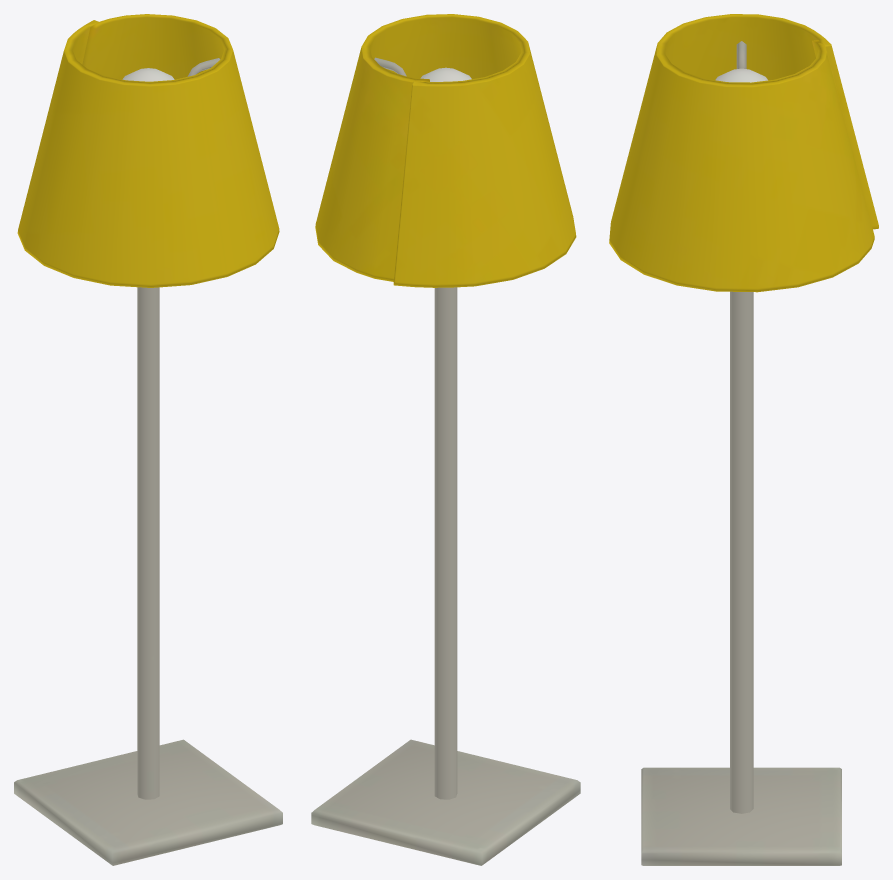
The picture shows the model from 3 angles, left to right: view 1: azimuth 30°, elevation 25°; view 2: azimuth 150°, elevation 25°; view 3: azimuth 270°, elevation 25°; orthographic projection.
Size of the model in its own units: 5.45 by 17.6 by 5.55.
1 material, 1 textured.
